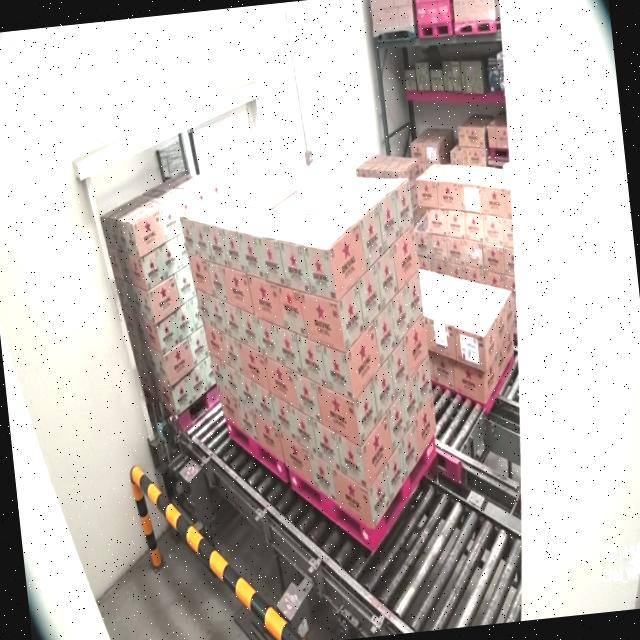pallet: (253, 148, 455, 570), (83, 165, 233, 445), (180, 158, 294, 500)
